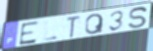3: (108, 10, 125, 31)
E: (18, 20, 41, 47)
L: (43, 20, 59, 42)
Q: (84, 12, 105, 36)
S: (128, 6, 149, 29)
T: (65, 15, 82, 39)
